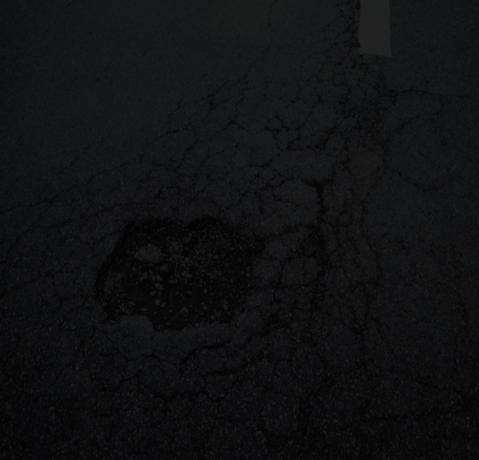pothole: (67, 165, 293, 352)
